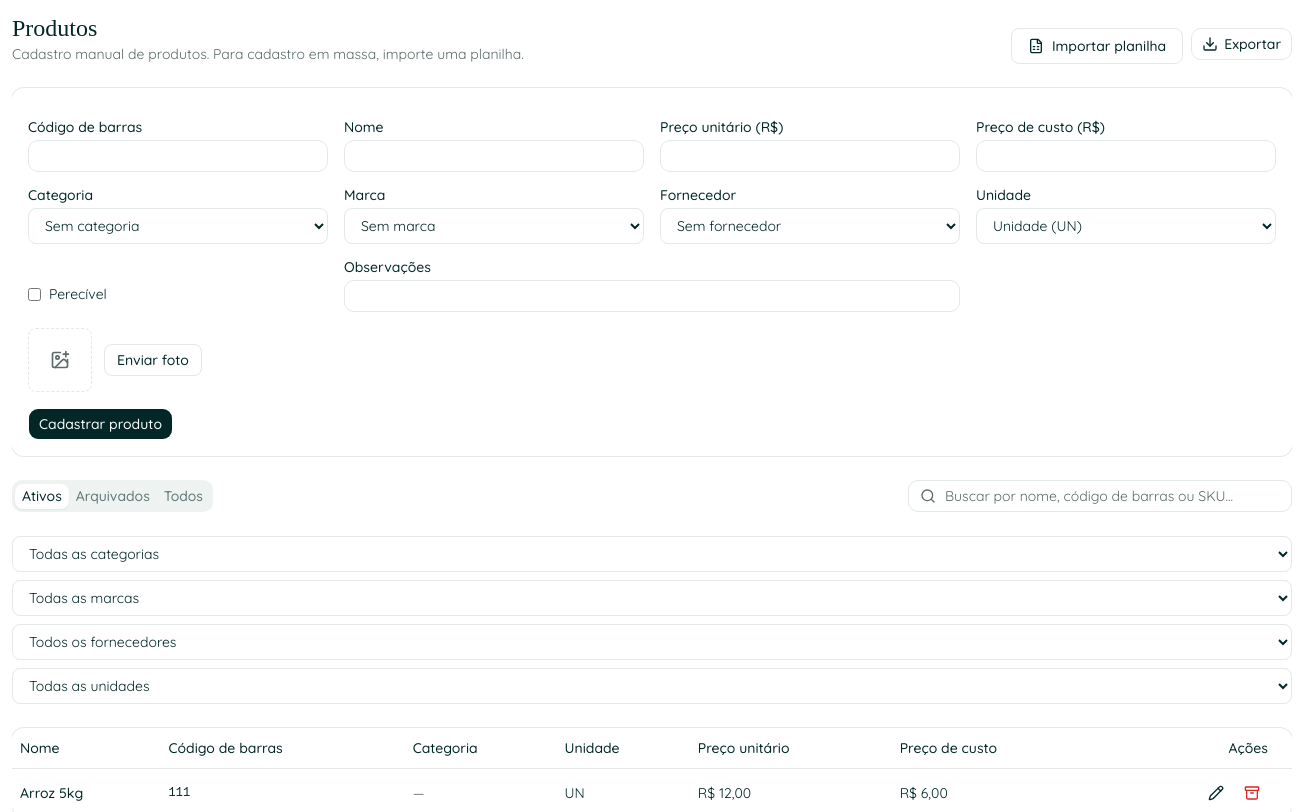
Test case: ProductsPage — cadastro de código de produto arquivado (etapa 1.3) › conflito com produto ARQUIVADO: mostra o aviso e "Reativar e atualizar os dados" reativa e grava o formulário
The image size is (1304, 812).
Check: the text "Arroz 5kg" is shown, box [20, 784, 83, 802]
In the field labelled "Código de barras": (178, 156) [28, 140, 328, 172], type "999"
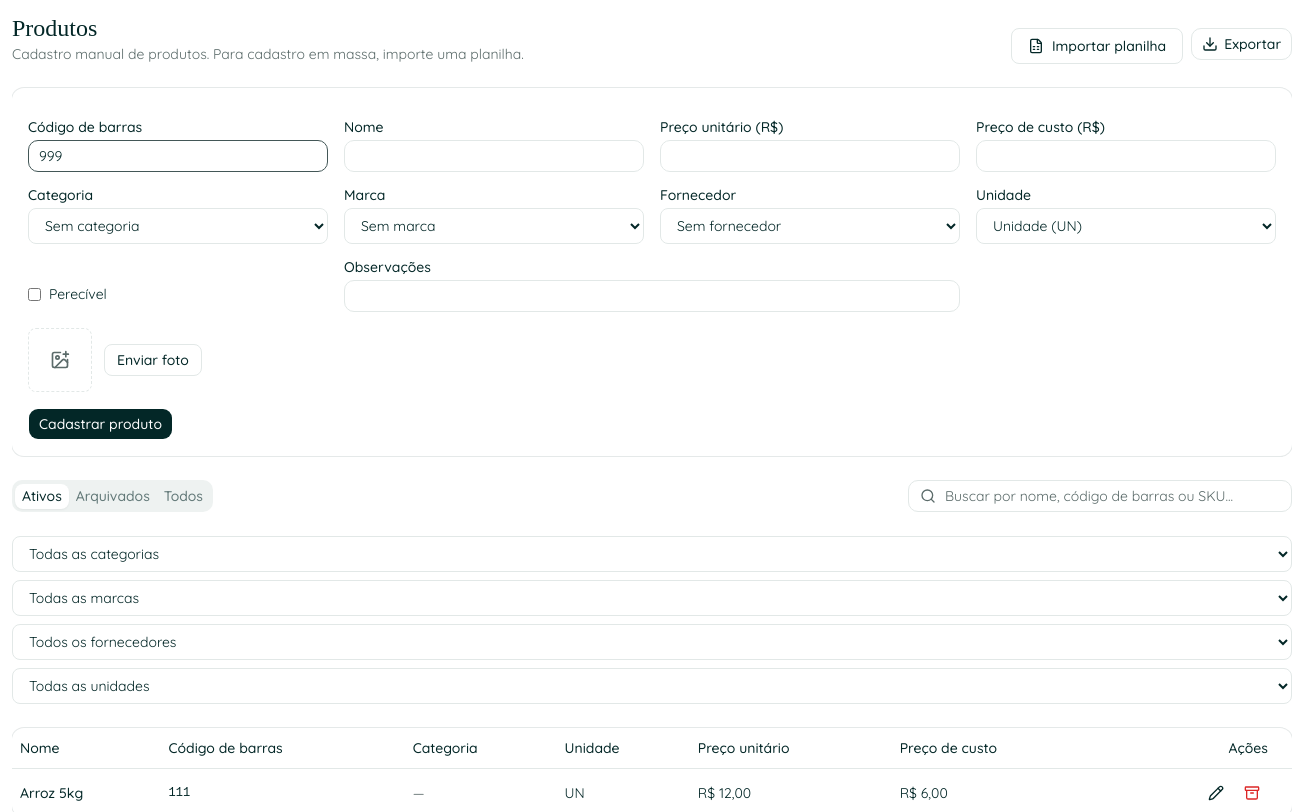
In the field labelled "Nome": (494, 156) [344, 140, 644, 172], type "Macarrão"
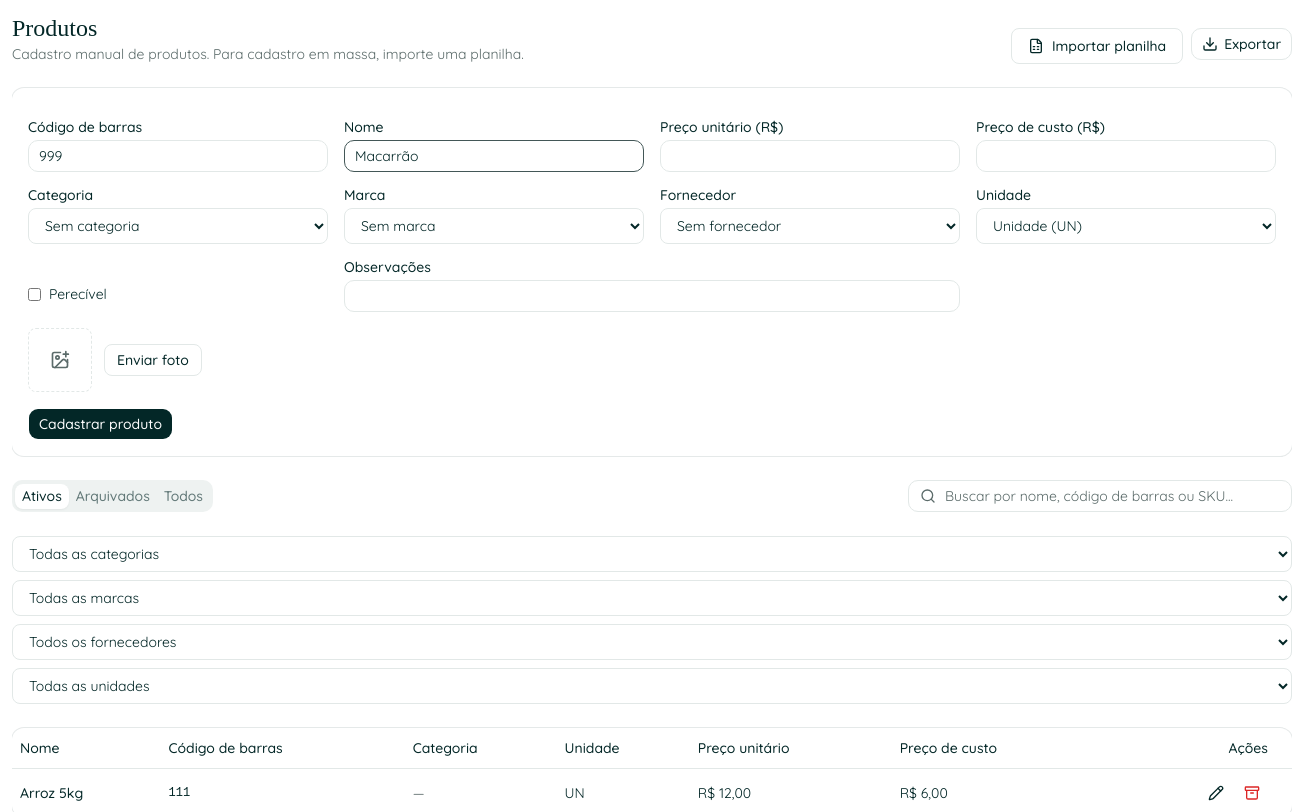
In the number field labelled "Preço unitário (R$)": (810, 156) [660, 140, 960, 172], type "7.5"
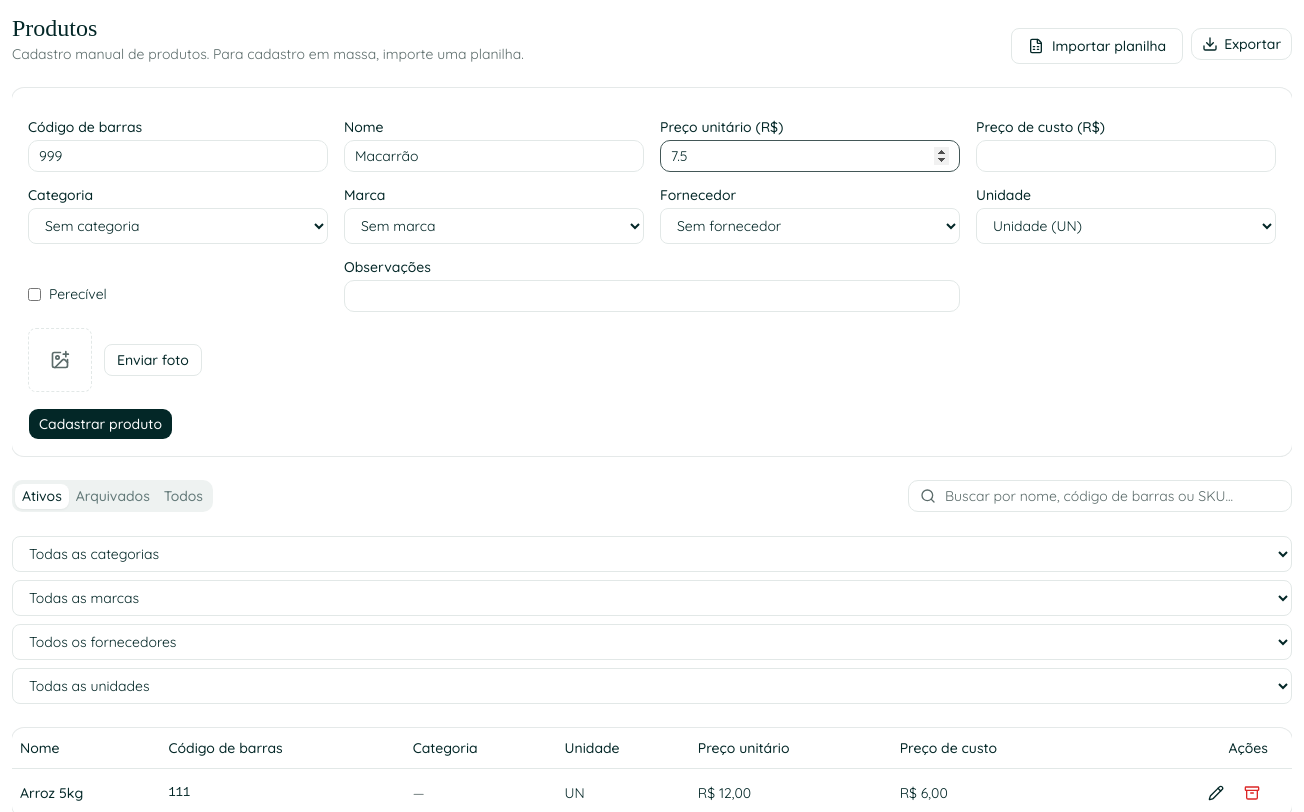
Click the button "Cadastrar produto": (100, 424) [28, 408, 173, 440]
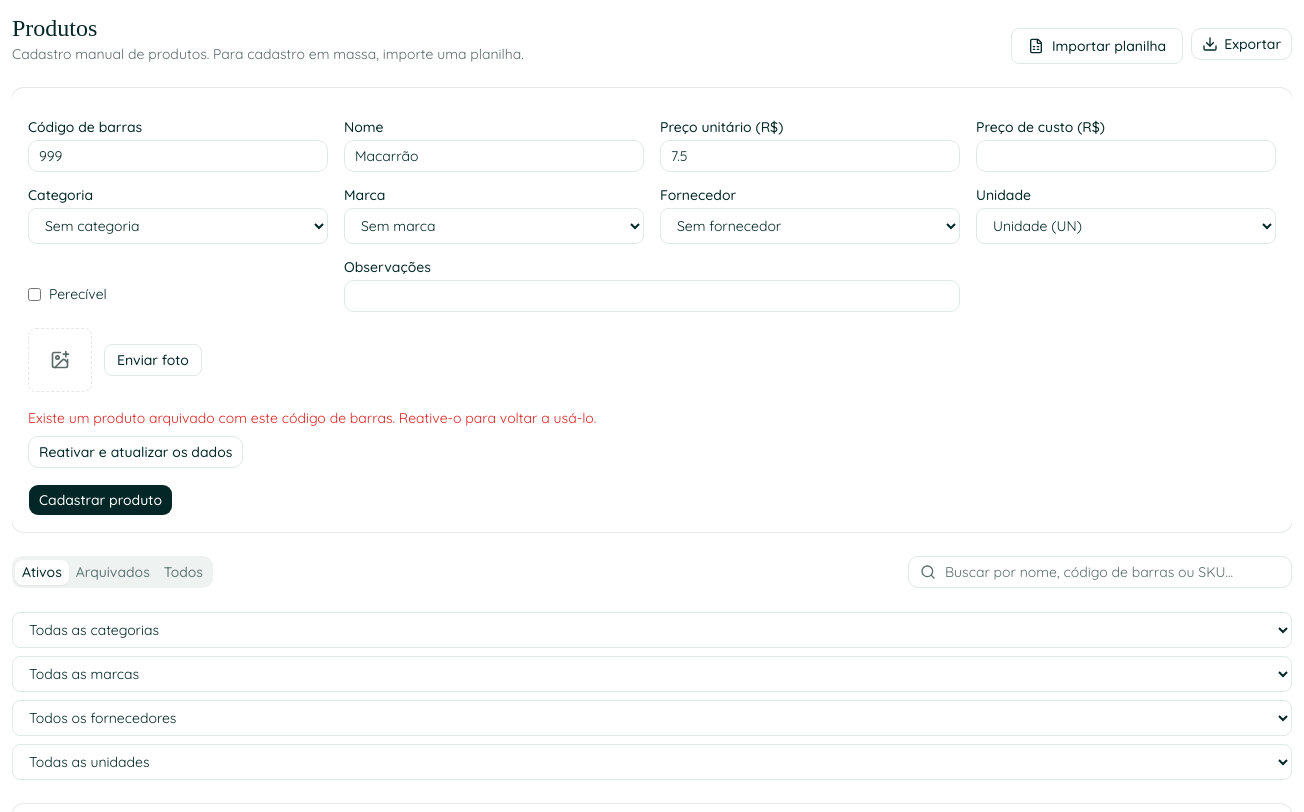
Check: the text "Existe um produto arquivado com este código" is shown, box [28, 409, 596, 427]
Click the button "Reativar e atualizar os dados": (136, 452) [28, 436, 243, 468]
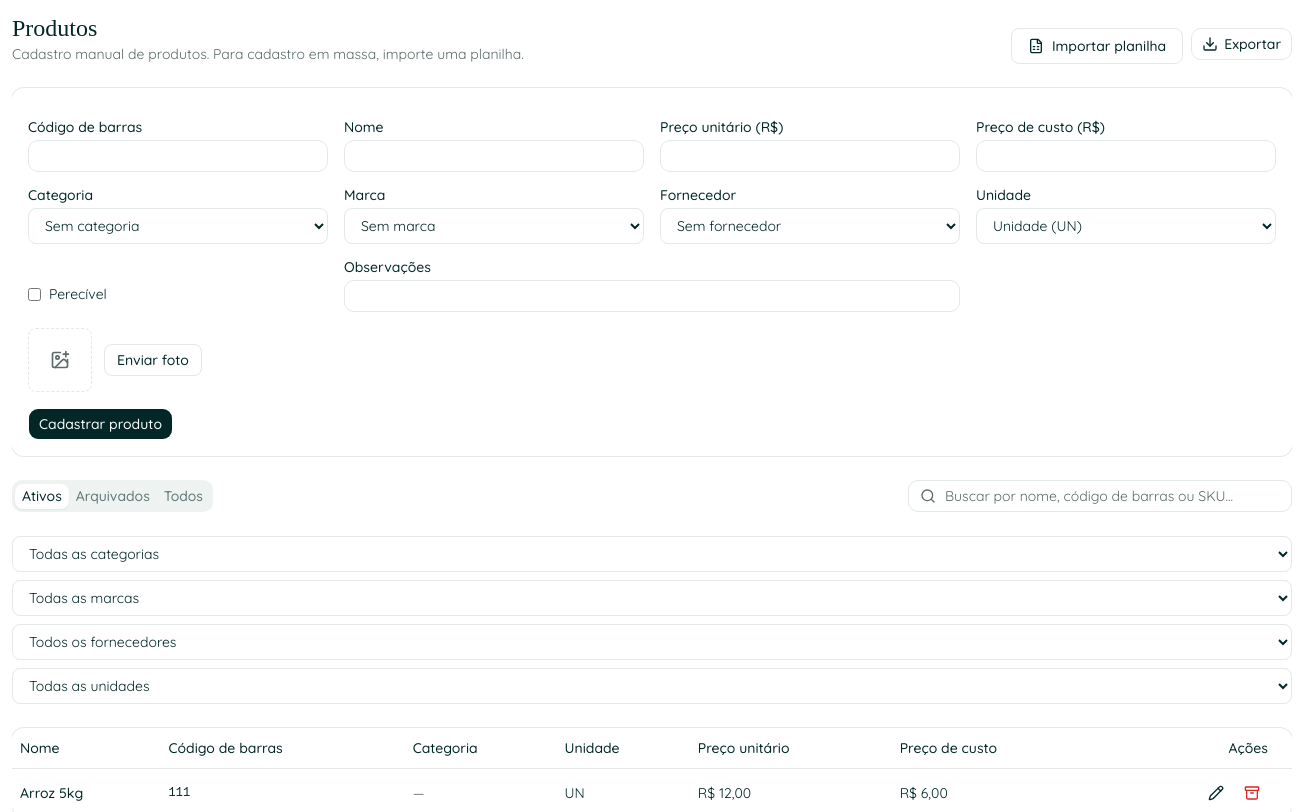
Check: the button "Reativar e atualizar os dados" is gone
